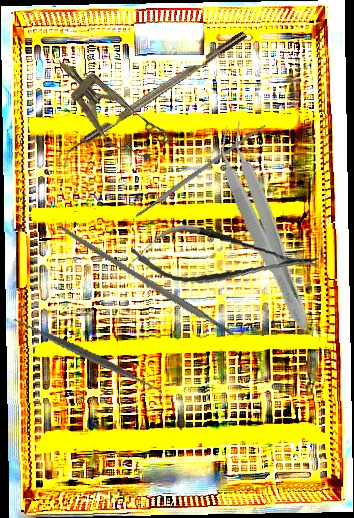Chopper: (53, 30, 254, 170)
Micro Scissor: (128, 220, 321, 295)
Scalpel Handle: (56, 222, 237, 341), (131, 122, 268, 220)
Spatula Surgical: (12, 281, 164, 430)
Speculum: (43, 44, 174, 174)
Tissue Forceps: (206, 120, 325, 335)
